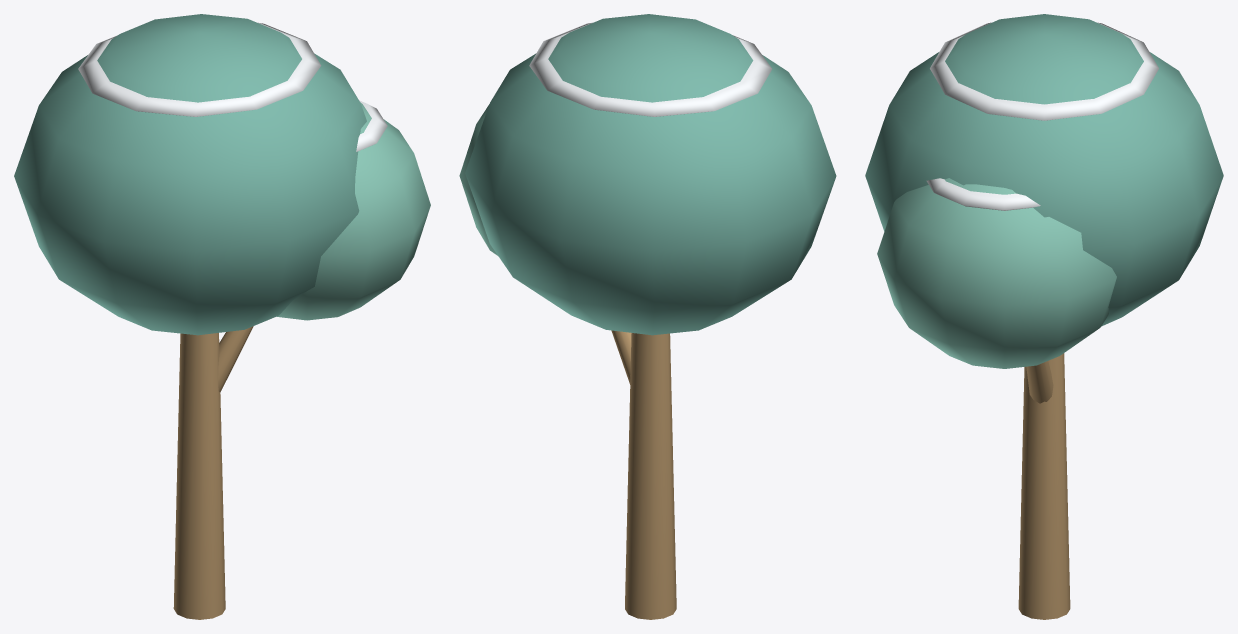
Rendered from tree_sapling_winter.glb.
3 views of the same model, side by side, from view 1: azimuth 30°, elevation 25°; view 2: azimuth 150°, elevation 25°; view 3: azimuth 270°, elevation 25° (orthographic).
Bounding box in the file's own units: 1.03 × 1.59 × 0.9.
